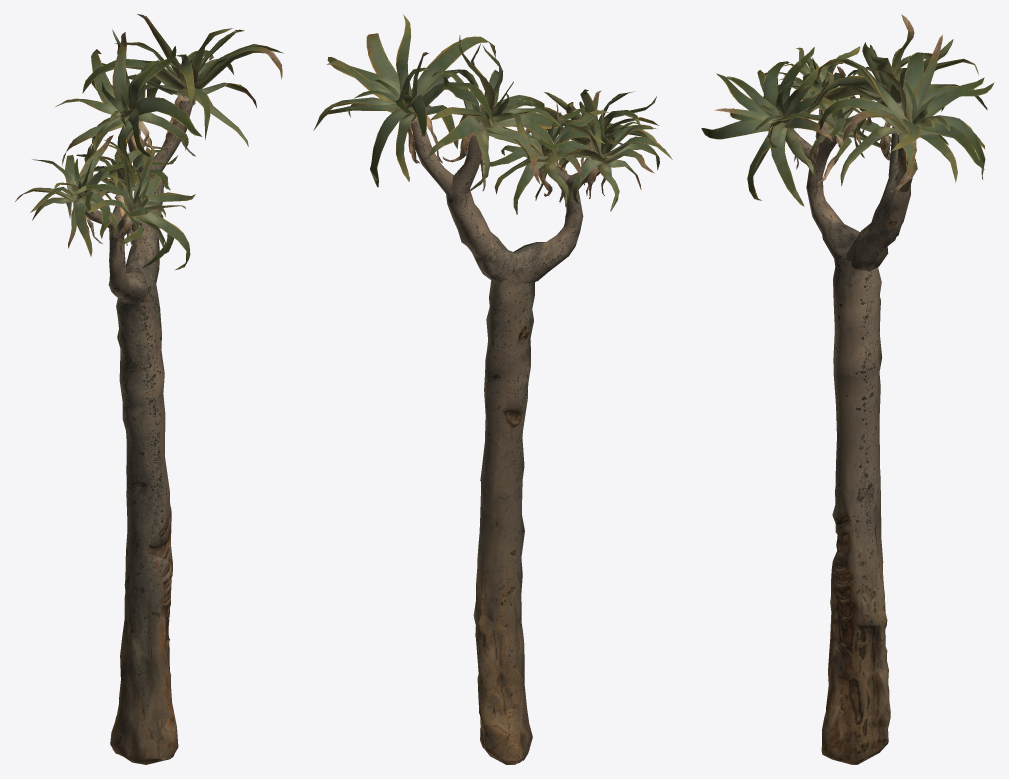
Rendered from quiver_tree_01.glb.
The picture shows the model from 3 angles, left to right: view 1: azimuth 30°, elevation 25°; view 2: azimuth 150°, elevation 25°; view 3: azimuth 270°, elevation 25°; orthographic projection. The views are drawn at different scales.
Visible parts, largest first — view 1: quiver_tree_01; view 2: quiver_tree_01; view 3: quiver_tree_01.
Part boxes in pixels (bbox=[...]): quiver_tree_01: bbox=[15, 14, 283, 764]; quiver_tree_01: bbox=[313, 14, 672, 764]; quiver_tree_01: bbox=[701, 14, 994, 764].
Size of the model in its own units: 1.18 by 2.71 by 0.9707.
2 materials, 2 textured.
